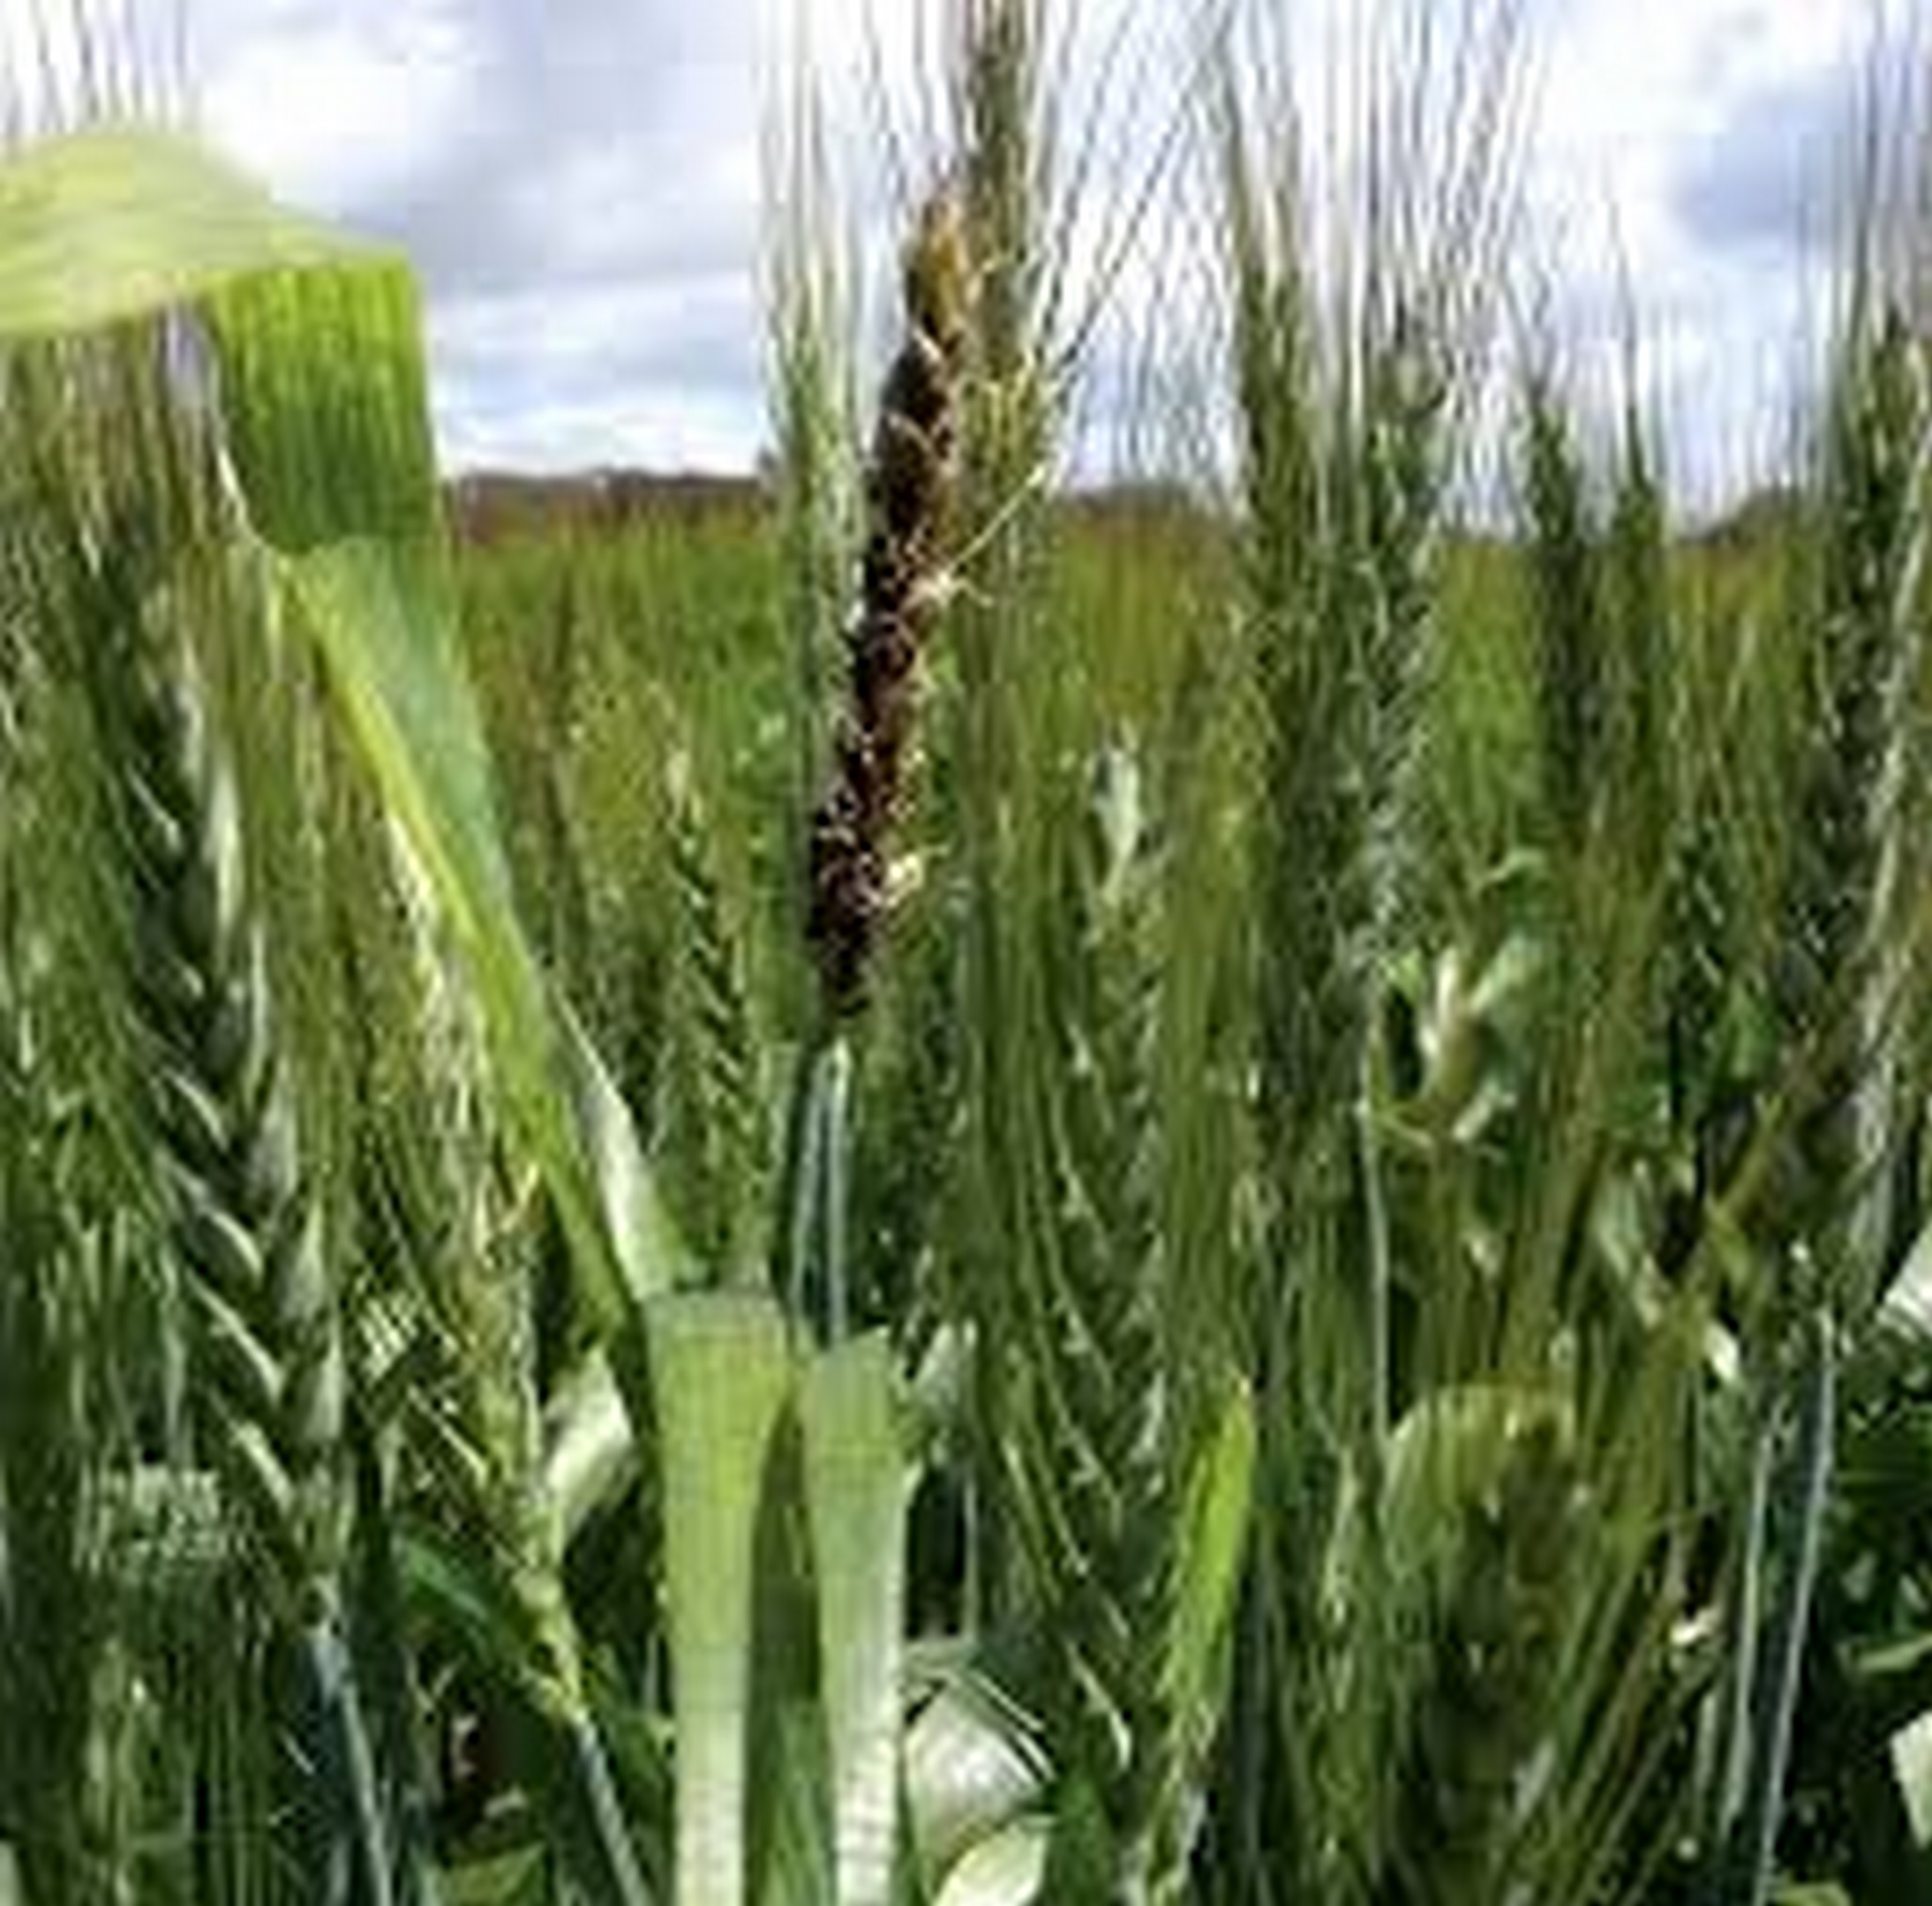Wheat Loose Smut: (771, 264, 1004, 941)
